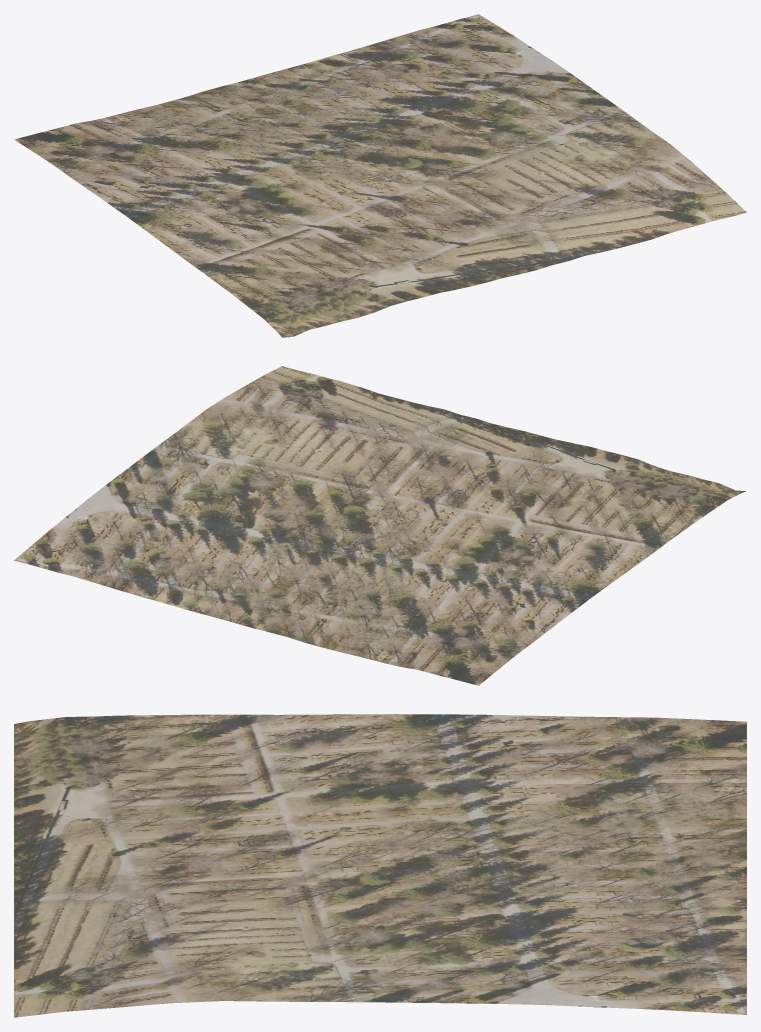
Rendered from CM_Terrain_24488820_6820408.fbx.
3 renders of one model, top to bottom at view 1: azimuth 30°, elevation 25°; view 2: azimuth 150°, elevation 25°; view 3: azimuth 270°, elevation 25°, orthographic. The views are drawn at different scales.
Parts seen in each view (by area): view 1: CM_Terrain_24488820_6820408_LOD0; view 2: CM_Terrain_24488820_6820408_LOD0; view 3: CM_Terrain_24488820_6820408_LOD0.
Boxes of the visible parts, x1,y1,x2,y2 form: CM_Terrain_24488820_6820408_LOD0: (14,14,746,337); CM_Terrain_24488820_6820408_LOD0: (14,366,745,685); CM_Terrain_24488820_6820408_LOD0: (14,714,746,1017).
Size of what is drawn, in the model's own units: 205 by 10.92 by 205.
